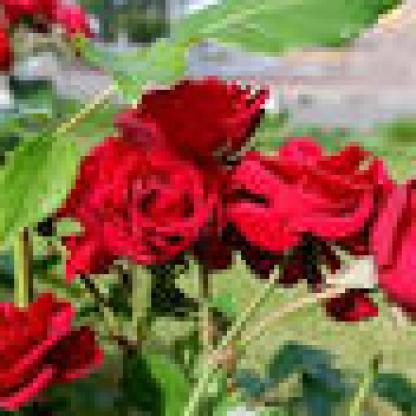Rose-Mawar: (72, 72, 412, 303)
